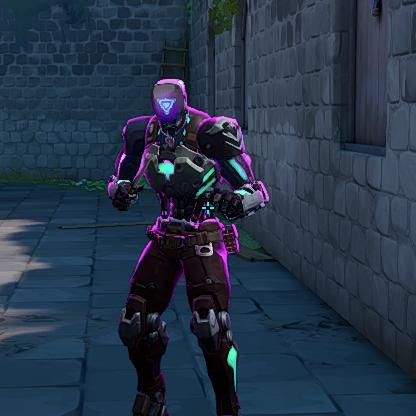enemyBody: (160, 124, 213, 225)
enemyHead: (154, 82, 183, 116)
